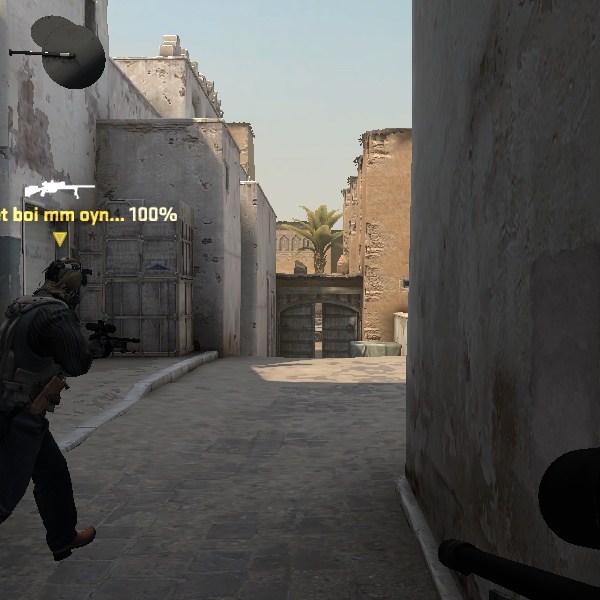ct_head: (33, 248, 101, 316)
t_body: (1, 251, 139, 548)
